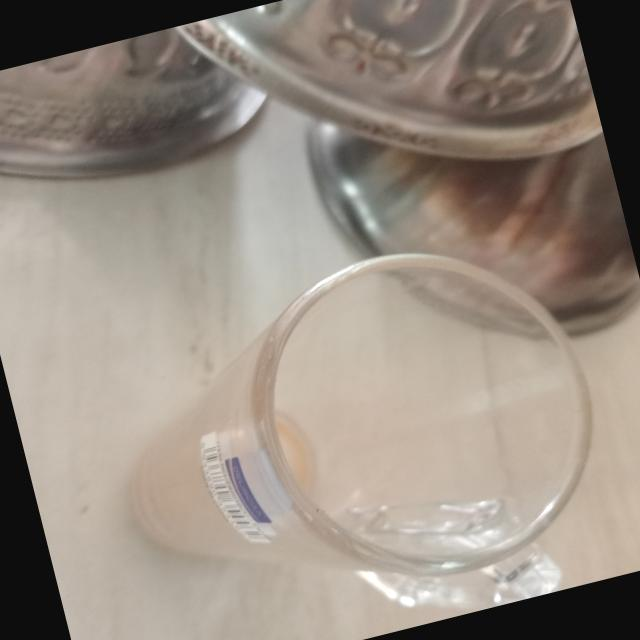glass-VX4N: (86, 214, 633, 640)
